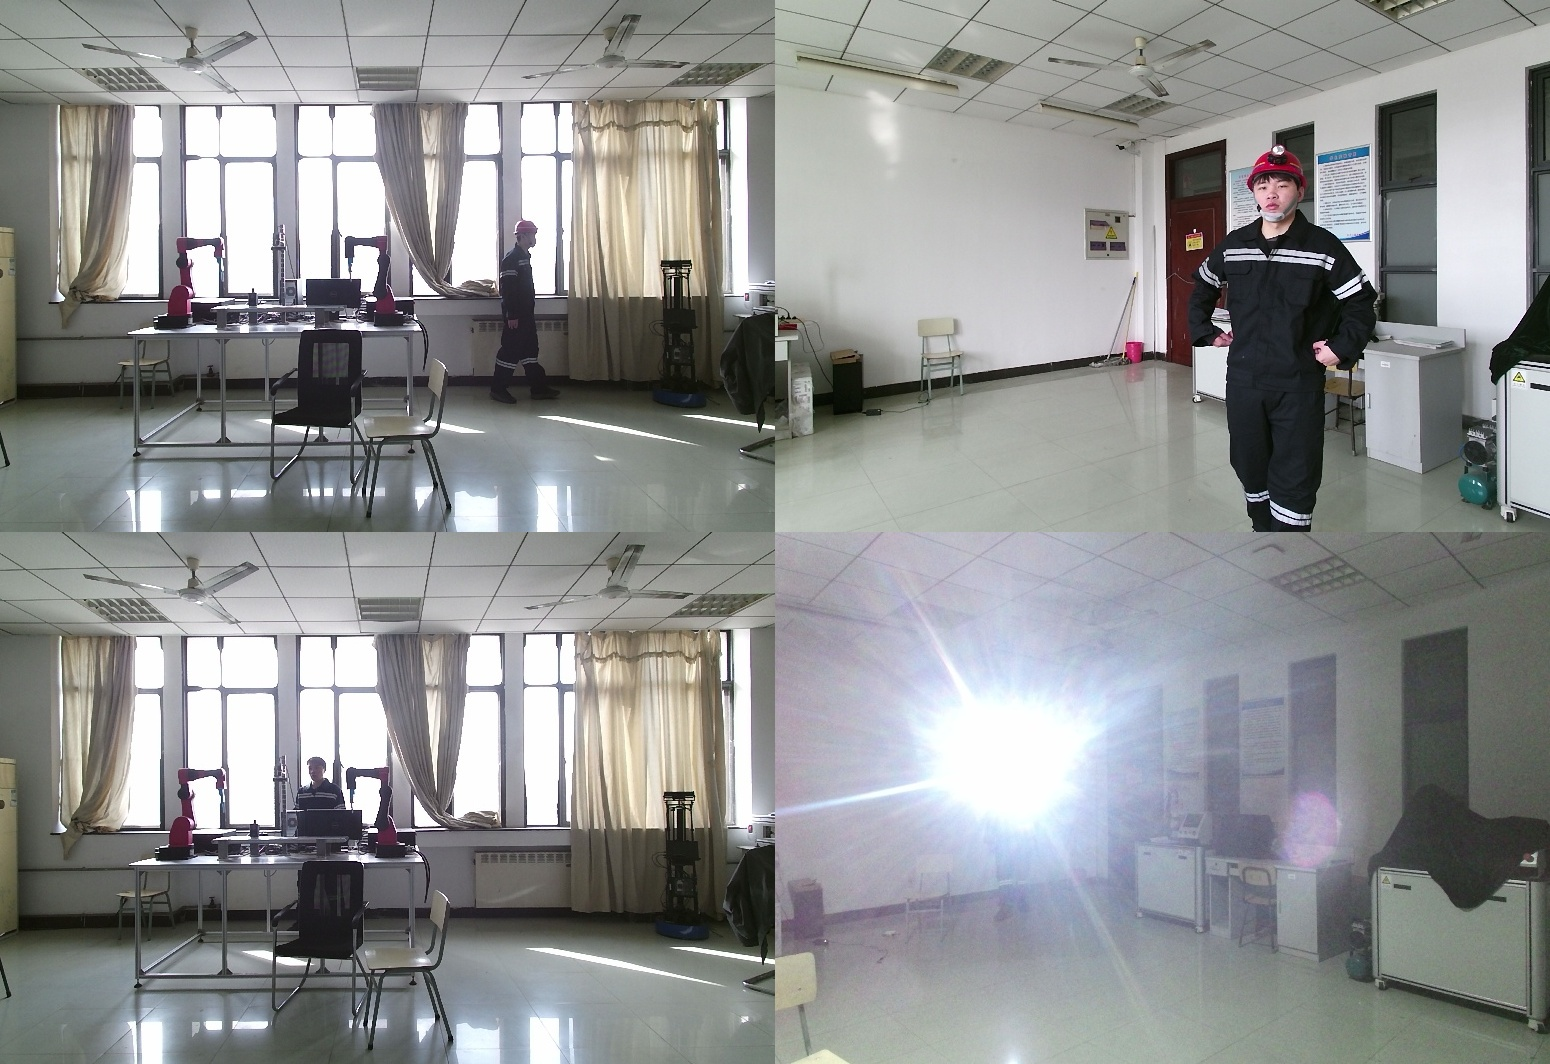person: (1195, 146, 1391, 532), (490, 220, 562, 412), (984, 759, 1041, 924), (288, 759, 358, 839)
